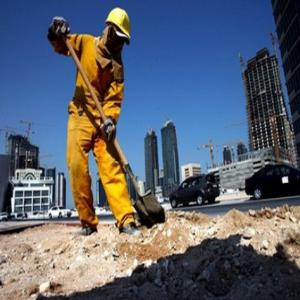yellow: (107, 10, 132, 50)
